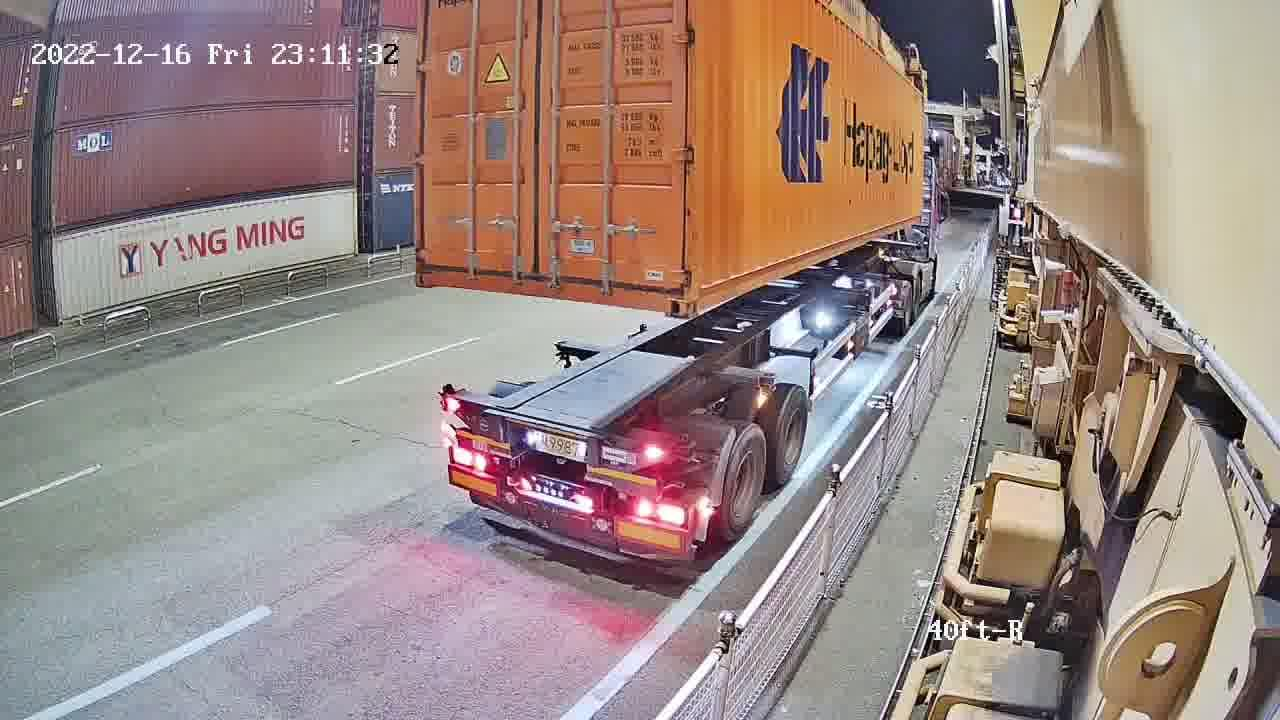Chassis: (442, 397, 649, 472)
Cone: (665, 432, 697, 467), (436, 379, 462, 410)
Hole_L: (686, 260, 720, 319), (414, 249, 452, 288)
Hole_R: (645, 267, 686, 319)
Tire: (721, 426, 768, 535), (773, 388, 809, 481)
